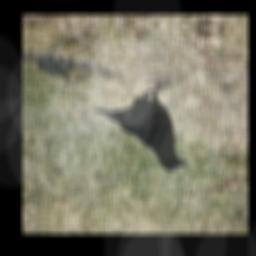Crow: (95, 78, 195, 176)
